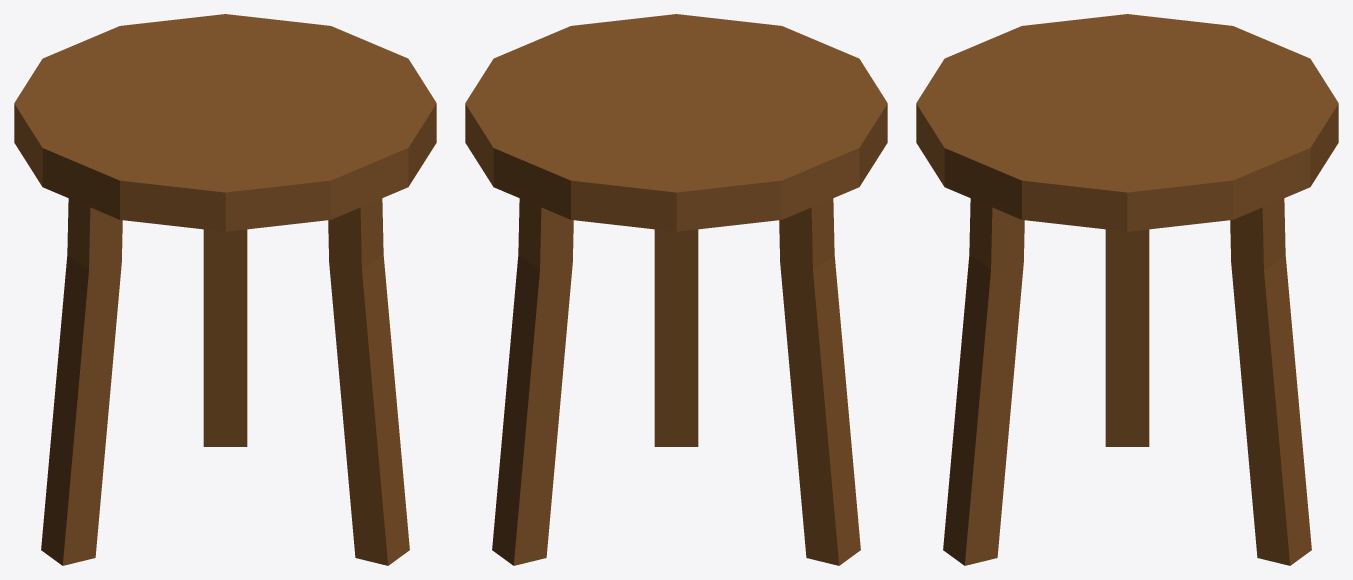
Rendered from WoodenStool.001.fbx.
The picture shows the model from 3 angles, left to right: view 1: azimuth 30°, elevation 25°; view 2: azimuth 150°, elevation 25°; view 3: azimuth 270°, elevation 25°; orthographic projection.
Visible parts, largest first — view 1: WoodenStool.001; view 2: WoodenStool.001; view 3: WoodenStool.001.
Part boxes in pixels (left/top/right/bottom): WoodenStool.001: left=14, top=14, right=436, bottom=565; WoodenStool.001: left=465, top=14, right=887, bottom=565; WoodenStool.001: left=916, top=14, right=1338, bottom=565.
Bounding box in the file's own units: 0.39 × 0.42 × 0.39.
